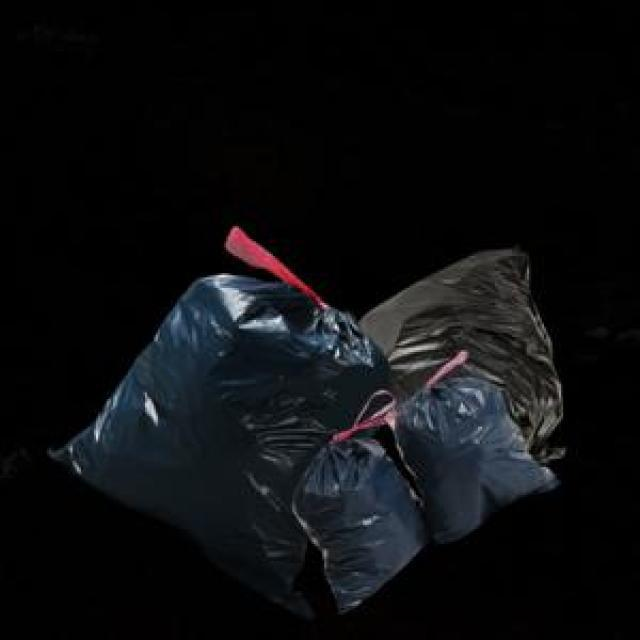waste: (52, 229, 562, 617)
